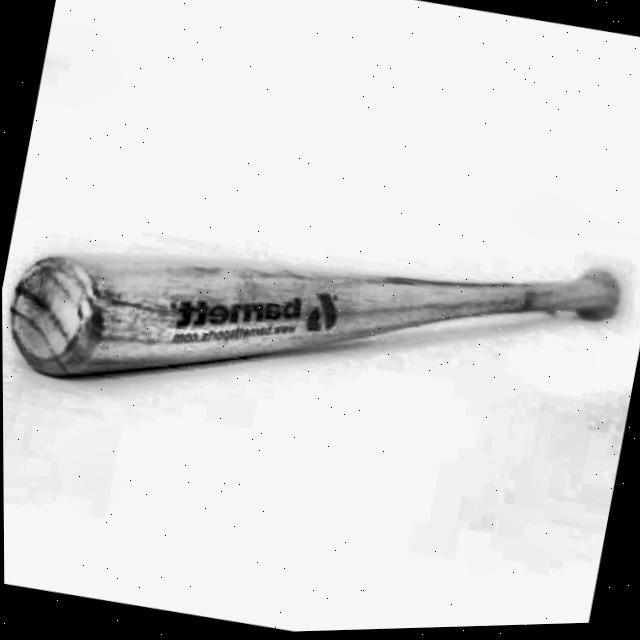tongkat pemukul: (2, 243, 631, 394)
